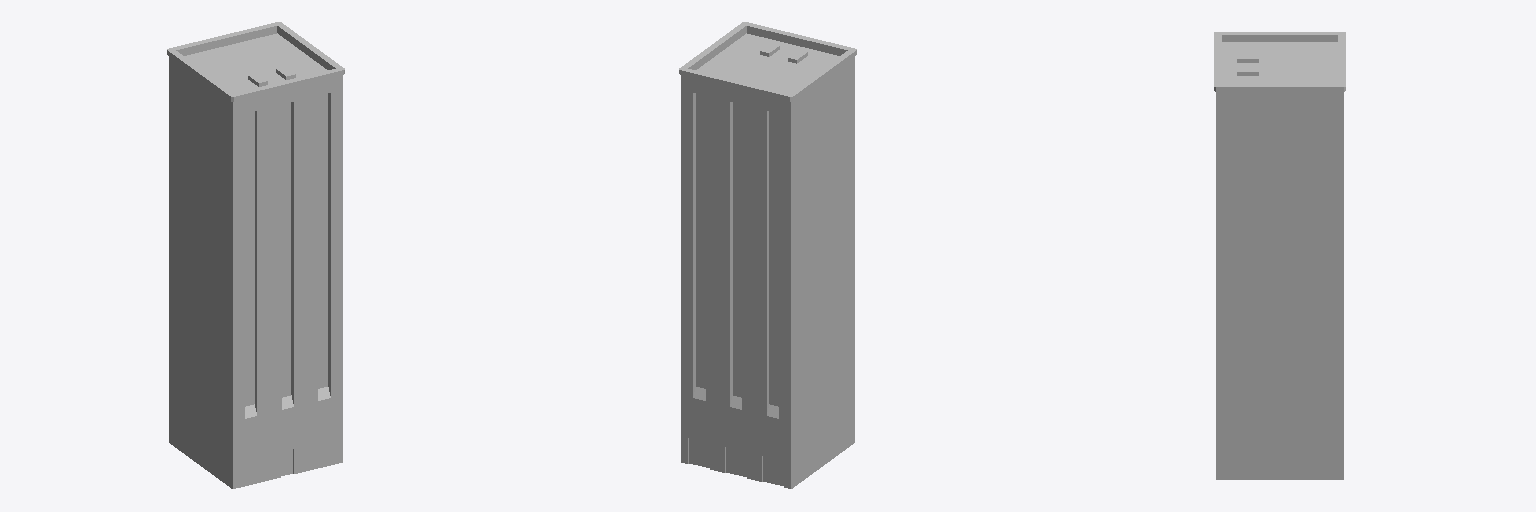
File: skyscraper_f.obj
3 views of the same model, side by side, from view 1: azimuth 30°, elevation 25°; view 2: azimuth 150°, elevation 25°; view 3: azimuth 270°, elevation 25° (orthographic).
Parts seen in each view (by area): view 1: skyscraperF; view 2: skyscraperF; view 3: skyscraperF.
Boxes of the visible parts, box(x1,y1,x2,y2) form: skyscraperF: box(167, 22, 344, 488); skyscraperF: box(679, 22, 856, 488); skyscraperF: box(1214, 32, 1345, 479).
Size of the model in its own units: 2.48 by 8.16 by 2.48.